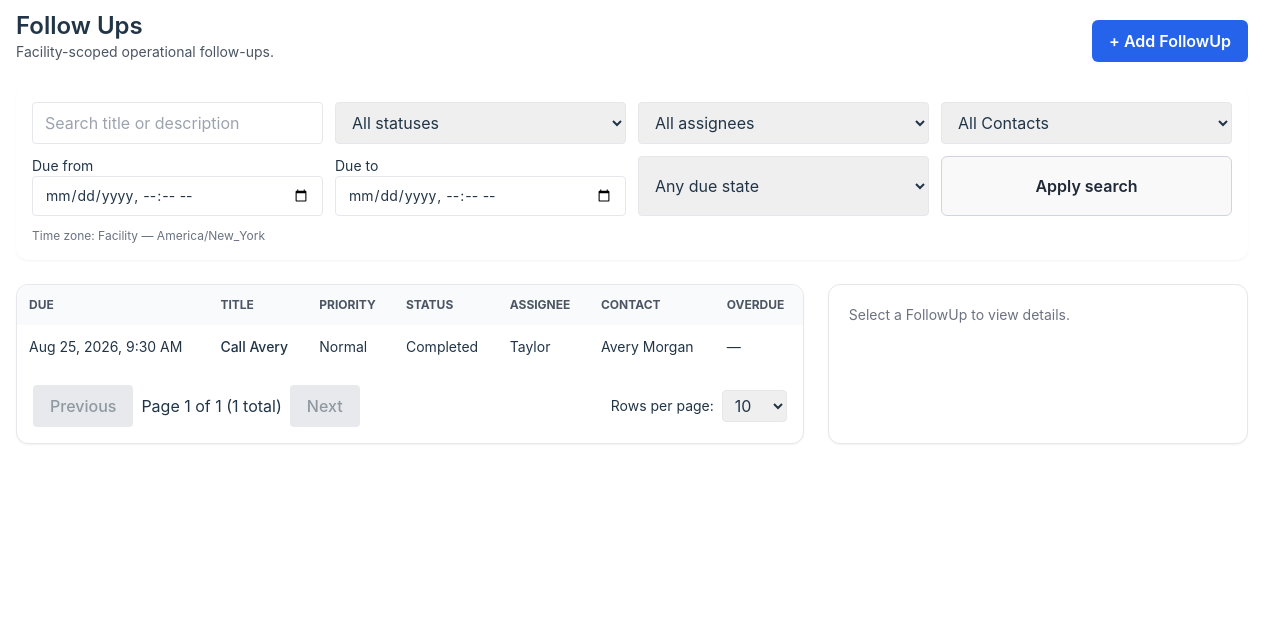
FollowUpsPage › renders completed terminal record read-only without overdue
Step 1. Click the text "Call Avery" → (258, 347), box left=208, top=325, right=307, bottom=369
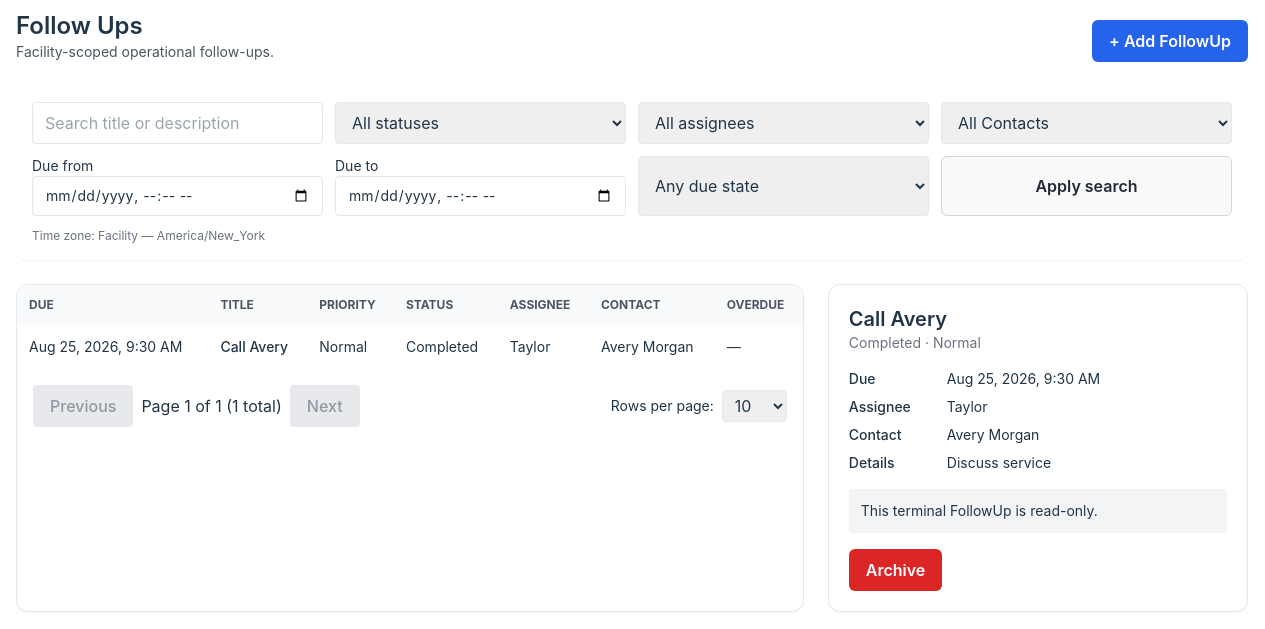
expect the text "This terminal FollowUp is read-only." is shown: met, box left=849, top=489, right=1227, bottom=533
